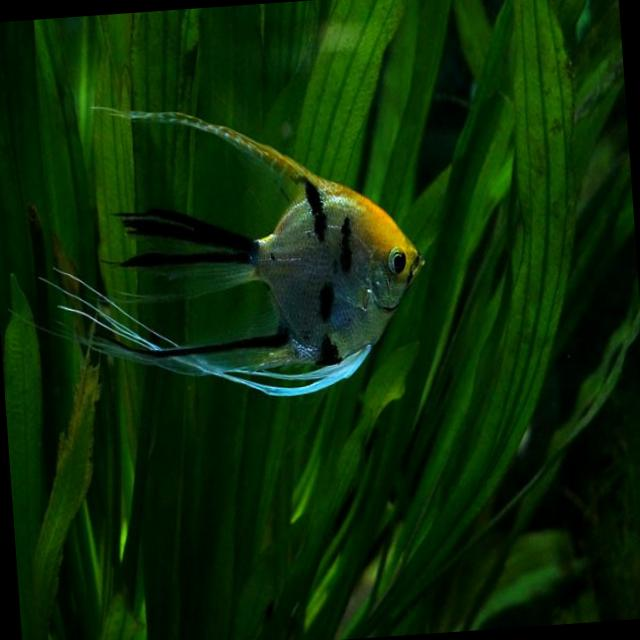AngelFish: (70, 81, 432, 408)
